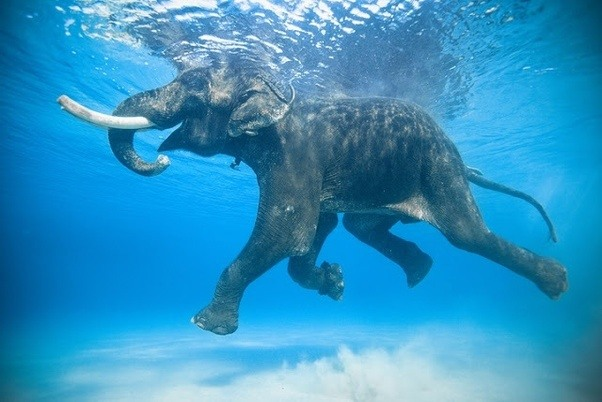elephant: (49, 65, 592, 341)
